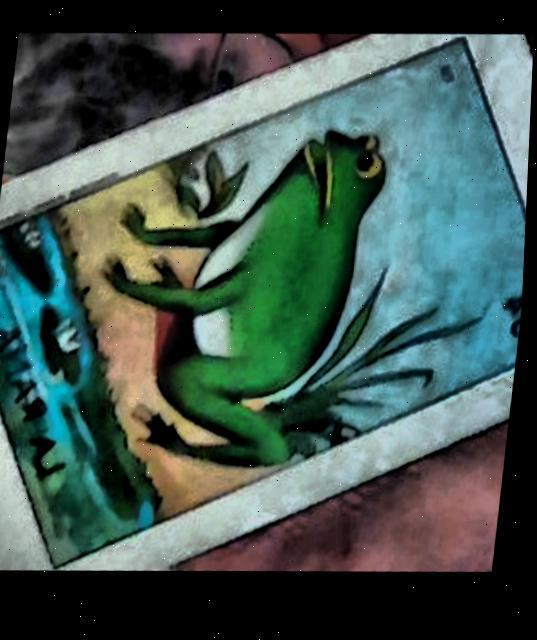La Rana: (0, 45, 528, 570)
